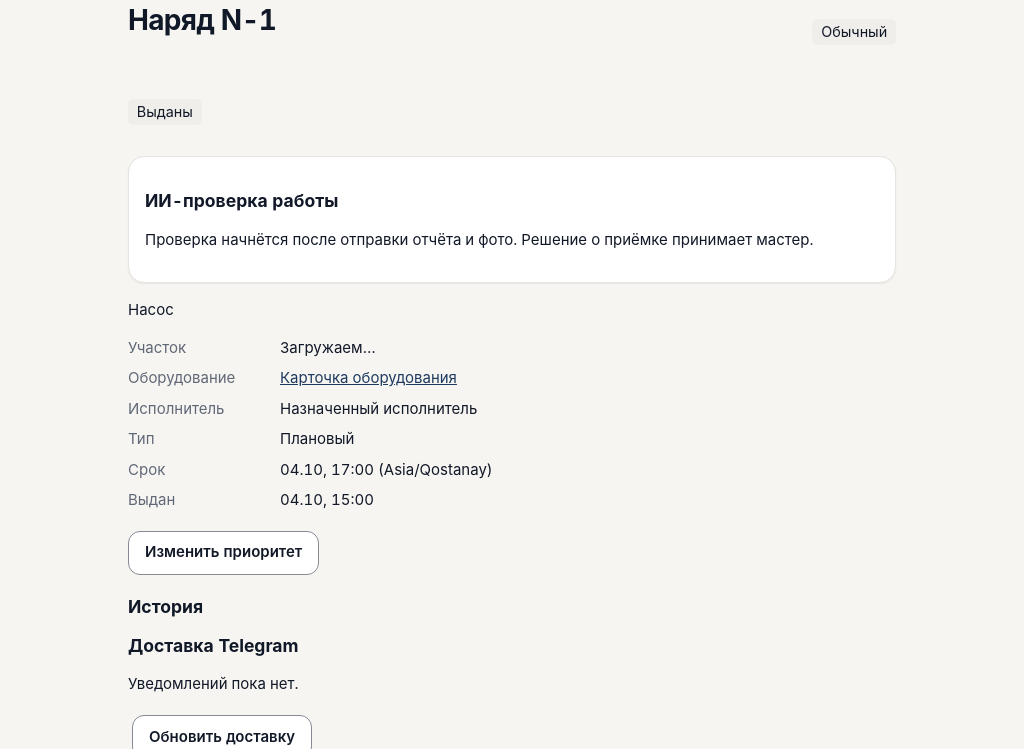
Test case: refreshes a conflict and requires a new explicit command with the current version
Later steps or results of the test are not shown.
Click the button "Изменить приоритет" at (224, 553), box [128,531,319,575]
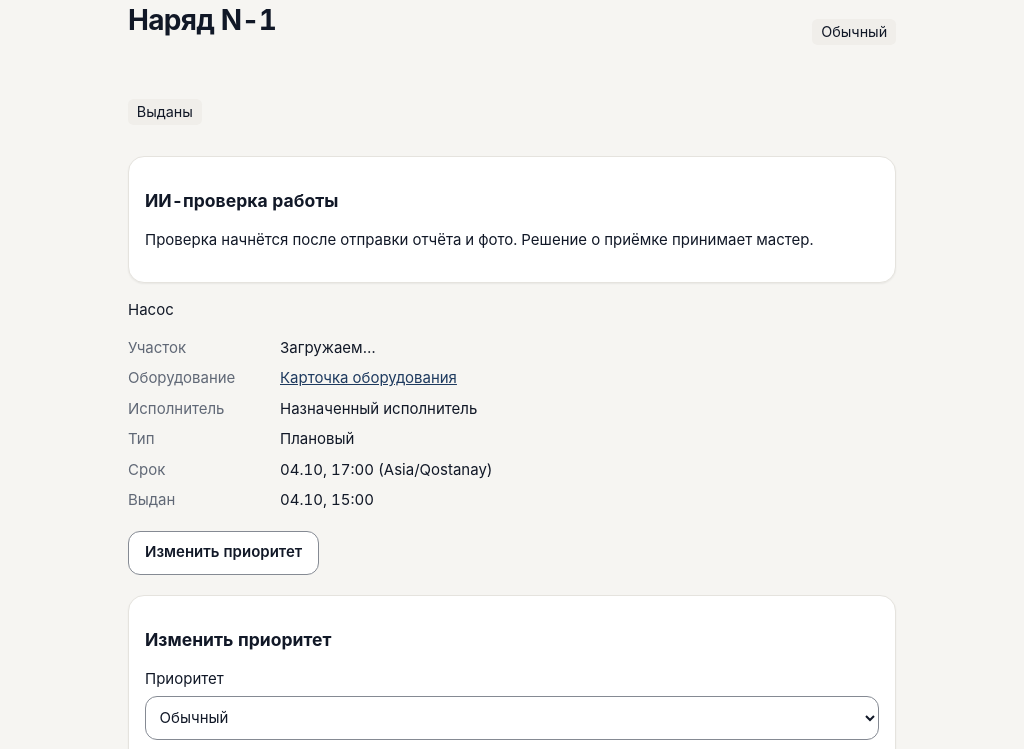
Select "Высокий" in the dropdown named "priority" at (512, 718), box [145,696,879,740]
(page scrolled)
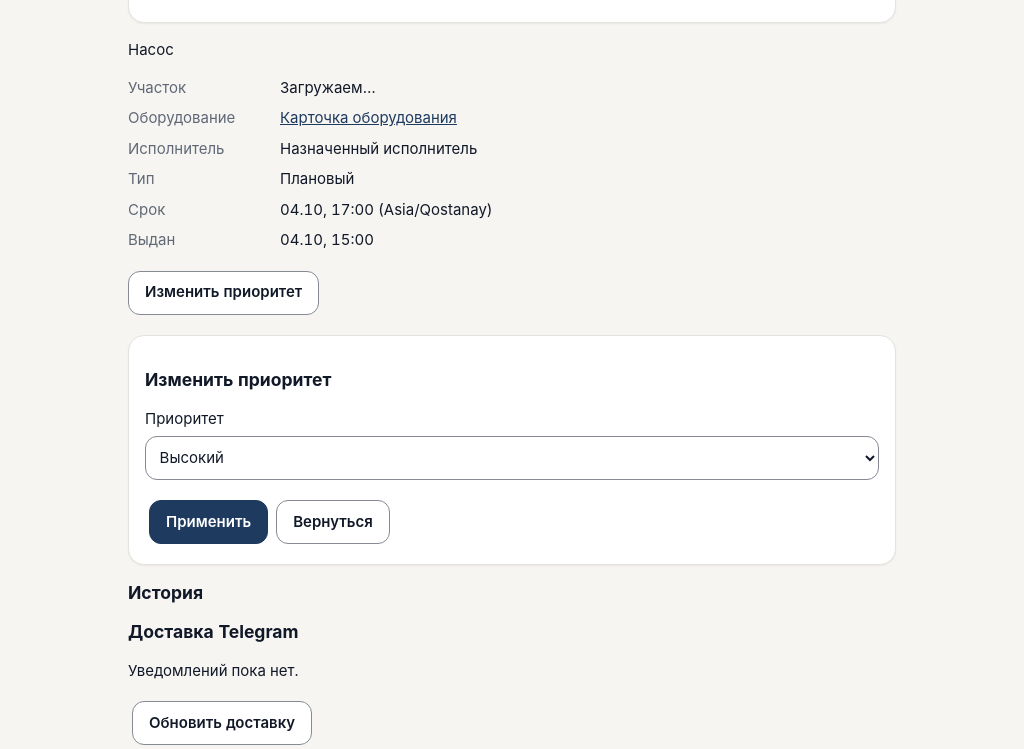
Click the submit button at (209, 522), box [149,500,268,544]
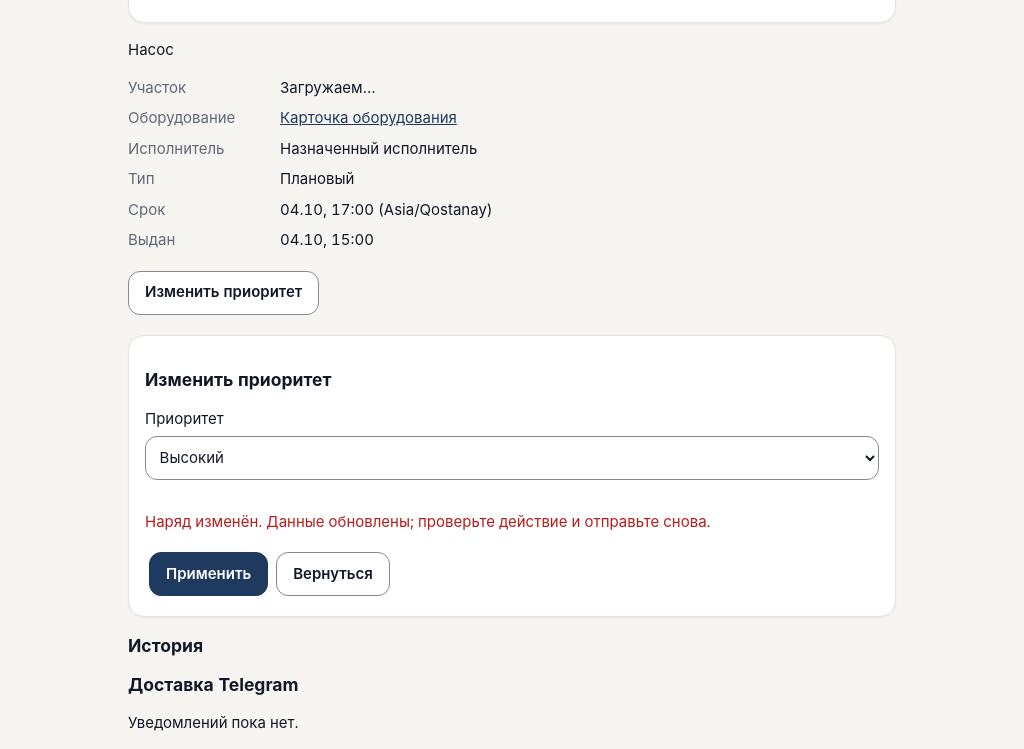
Result: the text "Наряд изменён" is shown at [145,512,258,531]
